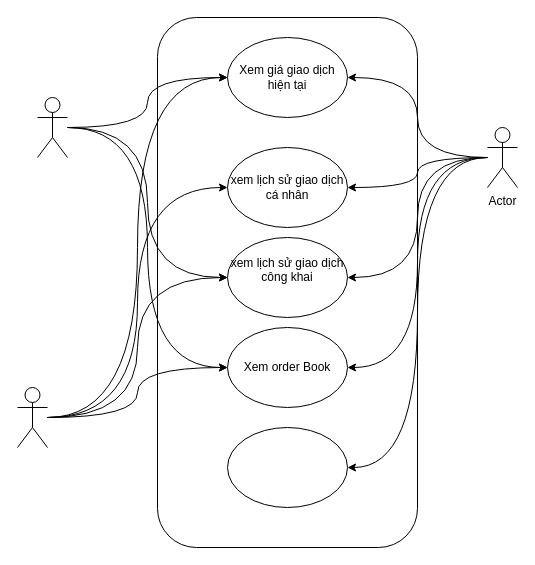
Image size: 535x565. Some labels were removed from this diagram. Each missing label, with the centre of its shape:
Guest: point 52,127
Toàn bộ giao dịch: point 287,467
User: point 32,417
